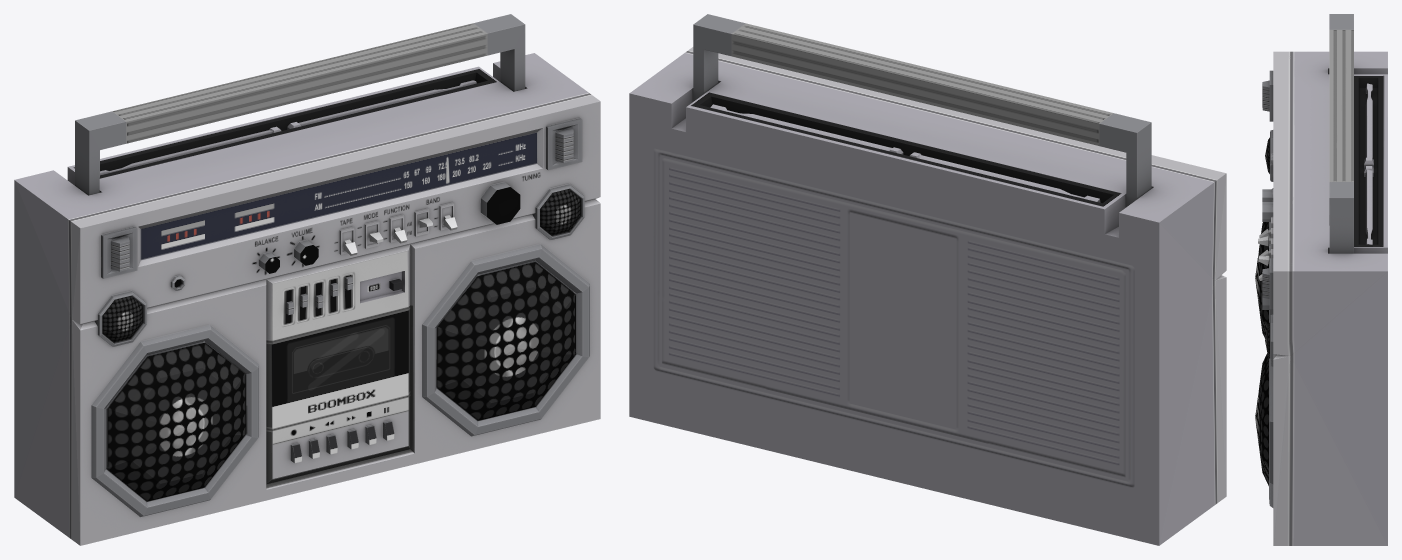
Rendered from Boombox.gltf.
The picture shows the model from 3 angles, left to right: view 1: azimuth 30°, elevation 25°; view 2: azimuth 150°, elevation 25°; view 3: azimuth 270°, elevation 25°; orthographic projection. The views are drawn at different scales.
Parts seen in each view (by area): view 1: node-0; view 2: node-0; view 3: node-0.
Boxes of the visible parts, x1,y1,x2,y2 form: node-0: (14,14,600,545); node-0: (629,14,1226,545); node-0: (1255,14,1387,545).
Bounding box in the file's own units: 2.63 × 1.84 × 0.6724.
1 material, 1 textured.
